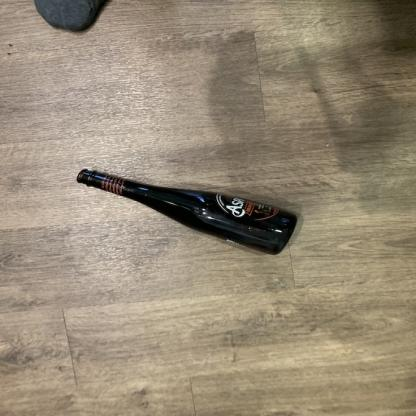trash: (76, 169, 304, 256)
